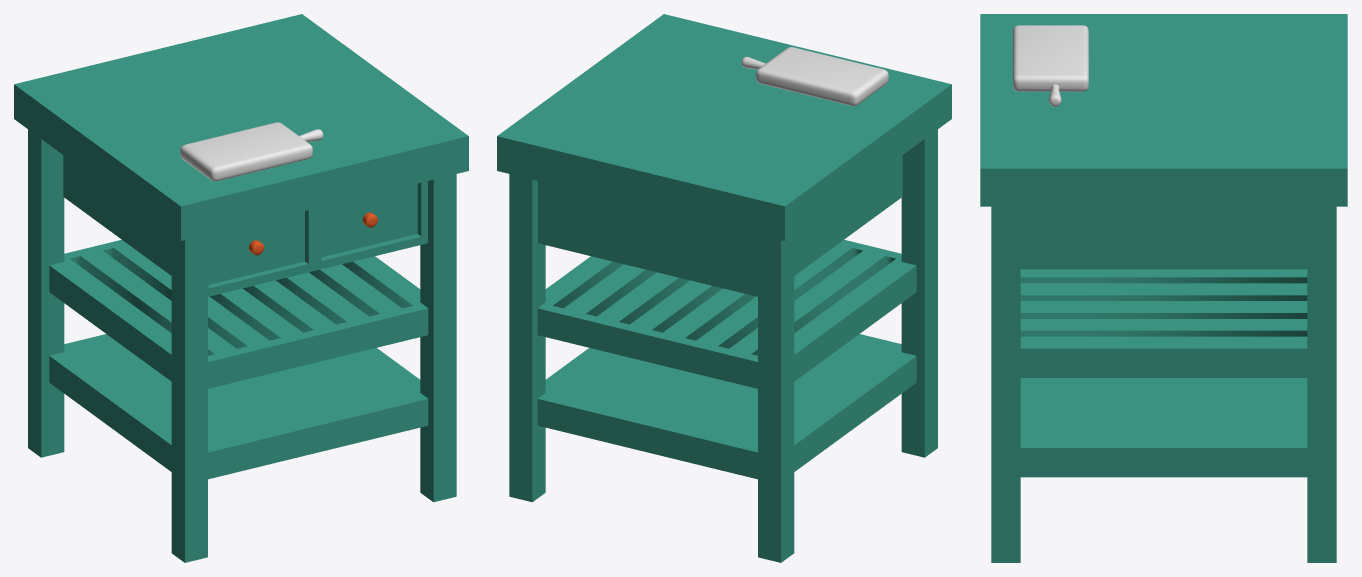
File: Kitchen cabinets2.fbx
3 views of the same model, side by side, from view 1: azimuth 30°, elevation 25°; view 2: azimuth 150°, elevation 25°; view 3: azimuth 270°, elevation 25° (orthographic). The views are drawn at different scales.
Parts seen in each view (by area): view 1: Box045, Box051, Box050, Box098, Box046, Box047, Box049, Box095; view 2: Box045, Box051, Box050, Box098, Box049, Box048, Box046, Box095; view 3: Box045, Box051, Box050, Box098, Box047, Box048, Box095.
Boxes of the visible parts, x1,y1,x2,y2 form: Box045: [14, 14, 468, 240]; Box051: [49, 239, 428, 388]; Box050: [49, 334, 428, 479]; Box098: [63, 155, 427, 296]; Box046: [171, 234, 207, 562]; Box047: [420, 174, 456, 502]; Box049: [28, 129, 64, 457]; Box095: [180, 122, 312, 181]; Box045: [497, 14, 951, 240]; Box051: [537, 239, 916, 388]; Box050: [537, 334, 916, 479]; Box098: [538, 155, 902, 296]; Box049: [758, 234, 794, 562]; Box048: [509, 174, 545, 502]; Box046: [901, 129, 937, 457]; Box095: [756, 47, 888, 106]; Box045: [980, 14, 1347, 206]; Box051: [1020, 269, 1307, 377]; Box050: [1020, 378, 1307, 477]; Box098: [1020, 206, 1307, 269]; Box047: [991, 206, 1020, 562]; Box048: [1307, 206, 1336, 562]; Box095: [1013, 25, 1088, 91].
Bounding box in the file's own units: 22.95 × 28.69 × 23.03.
